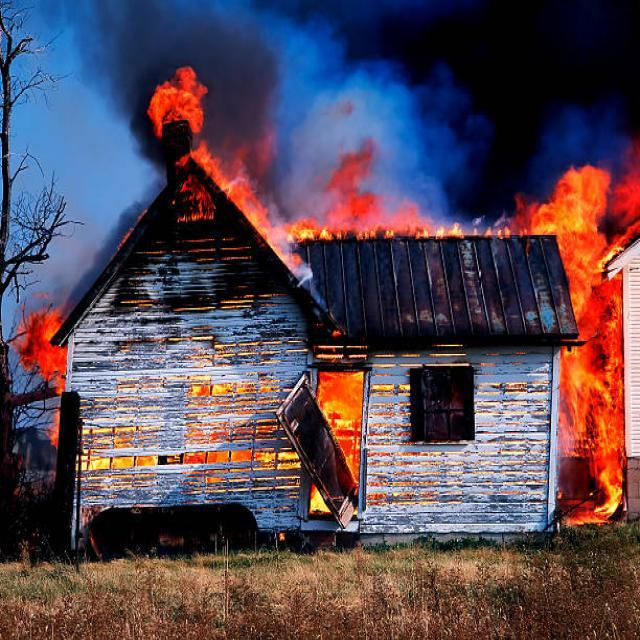Smoke: (199, 0, 640, 202)
